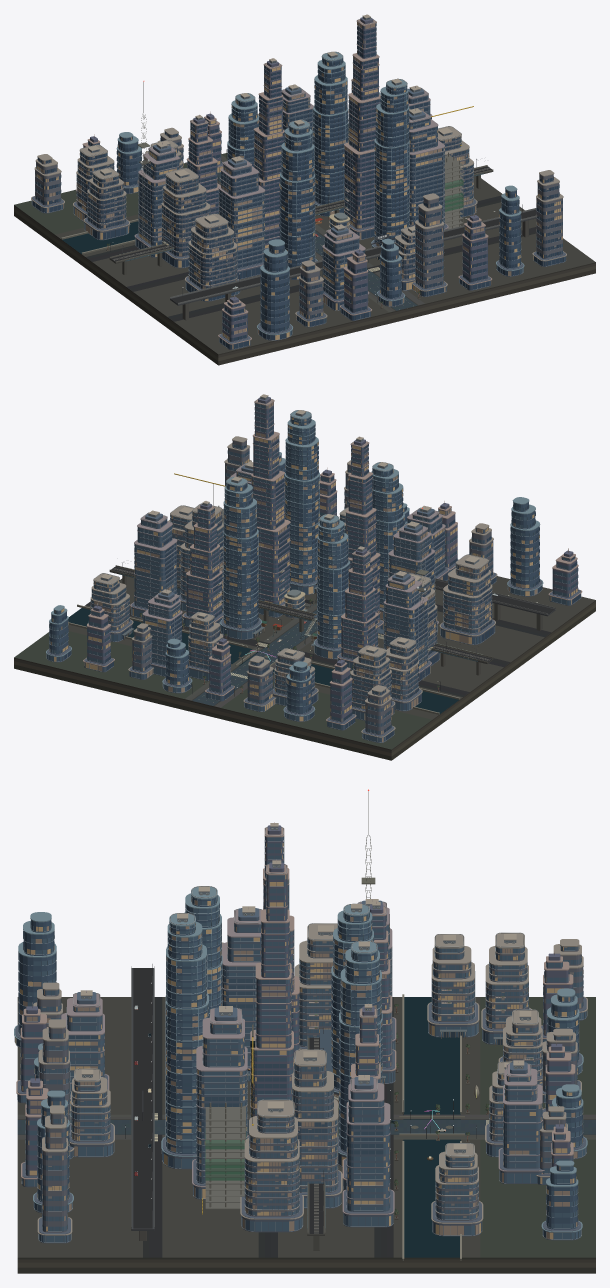
File: city.glb
3 renders of one model, top to bottom at view 1: azimuth 30°, elevation 25°; view 2: azimuth 150°, elevation 25°; view 3: azimuth 270°, elevation 25°, orthographic. The views are drawn at different scales.
Parts seen in each view (by area): view 1: City_City window colour, City_City facades, City_CityMatte, City_Matte, City_CityConcrete, City_CityMetal, Water_River, City_CityStone, City_Rain darkened asphalt; view 2: City_City window colour, City_City facades, City_CityMatte, City_Matte, City_CityStone, Water_River, City_CityConcrete, City_Rain darkened asphalt, City_CityMetal; view 3: City_City facades, City_City window colour, City_CityMatte, Water_River, City_Matte, City_CityConcrete, City_CityStone, City_Rain darkened asphalt, City_CityMetal, City_Net.
Boxes of the visible parts, x1=… form: City_City window colour: x1=31, y1=22, x2=566, y2=349; City_City facades: x1=31, y1=14, x2=566, y2=349; City_CityMatte: x1=14, y1=123, x2=595, y2=354; City_Matte: x1=14, y1=205, x2=595, y2=365; City_CityConcrete: x1=109, y1=152, x2=536, y2=320; City_CityMetal: x1=110, y1=82, x2=536, y2=304; Water_River: x1=62, y1=221, x2=138, y2=253; City_CityStone: x1=61, y1=155, x2=424, y2=312; City_Rain darkened asphalt: x1=217, y1=172, x2=417, y2=310; City_City window colour: x1=46, y1=402, x2=581, y2=742; City_City facades: x1=46, y1=394, x2=582, y2=742; City_CityMatte: x1=14, y1=566, x2=595, y2=749; City_Matte: x1=14, y1=600, x2=595, y2=760; City_CityStone: x1=69, y1=602, x2=459, y2=714; Water_River: x1=68, y1=608, x2=458, y2=713; City_CityConcrete: x1=109, y1=505, x2=555, y2=675; City_Rain darkened asphalt: x1=192, y1=610, x2=317, y2=705; City_CityMetal: x1=113, y1=473, x2=555, y2=696; City_City facades: x1=14, y1=822, x2=587, y2=1243; City_City window colour: x1=14, y1=836, x2=587, y2=1242; City_CityMatte: x1=17, y1=968, x2=595, y2=1257; Water_River: x1=403, y1=997, x2=460, y2=1257; City_Matte: x1=17, y1=1257, x2=595, y2=1273; City_CityConcrete: x1=131, y1=968, x2=445, y2=1250; City_CityStone: x1=17, y1=994, x2=595, y2=1260; City_Rain darkened asphalt: x1=17, y1=1120, x2=595, y2=1134; City_CityMetal: x1=125, y1=791, x2=476, y2=1228; City_Net: x1=205, y1=1128, x2=246, y2=1180.
Bounding box in the file's own units: 324 × 182 × 302.
29 materials, 6 textured.
